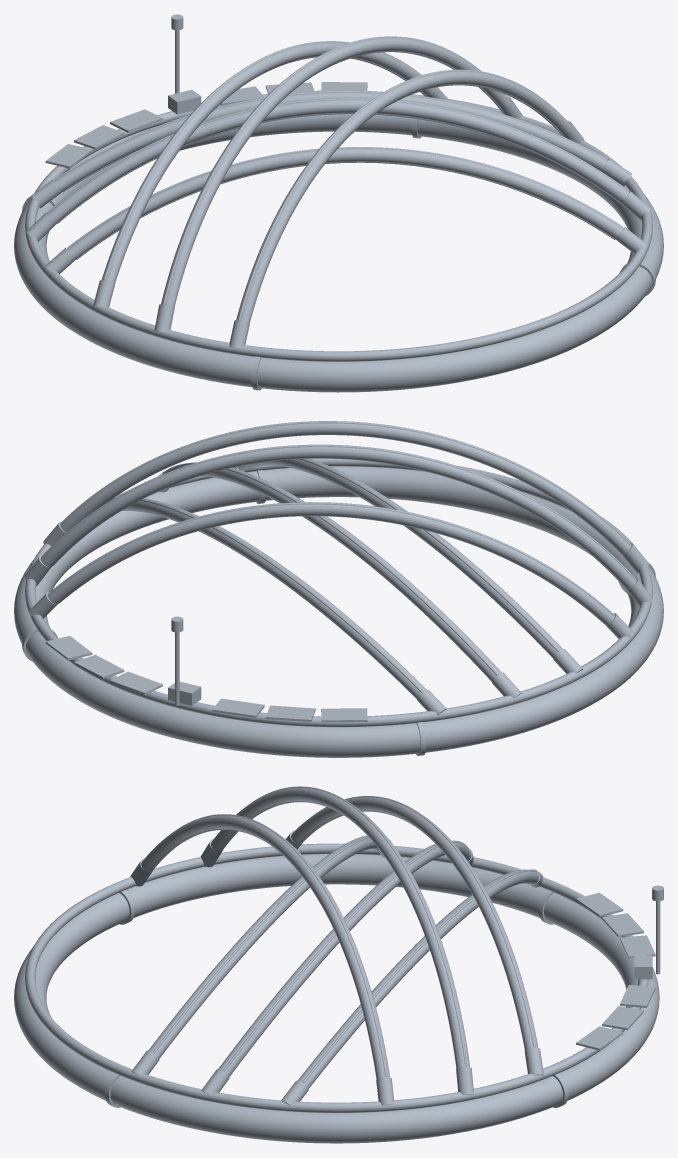
The model's file is waterline-rim-weave-r3.glb.
3 renders of one model, top to bottom at view 1: azimuth 30°, elevation 25°; view 2: azimuth 150°, elevation 25°; view 3: azimuth 270°, elevation 25°, orthographic.
Parts seen in each view (by area): view 1: Float ring, Aluminium ring, Rib 5 Air, Rib 1 Warmth, Rib 3 Water, Rib 4 Time, Rib 2 Leaf, Rib 6 Sweetness, Light strip top 3 Water, Light strip top 4 Time, Light strip top 2 Leaf, Light strip top 5 Air (+8 smaller); view 2: Float ring, Rib 3 Water, Rib 4 Time, Aluminium ring, Rib 2 Leaf, Rib 5 Air, Rib 6 Sweetness, Rib 1 Warmth, Light strip top 3 Water, Light strip top 4 Time, Light strip top 2 Leaf, Light strip top 5 Air (+9 smaller); view 3: Float ring, Aluminium ring, Rib 3 Water, Rib 4 Time, Rib 2 Leaf, Rib 5 Air, Rib 1 Warmth, Rib 6 Sweetness, Light strip top 3 Water, Light strip top 4 Time, Light strip top 1 Warmth, Light strip top 5 Air (+8 smaller).
Part boxes in pixels (<box>): Float ring: <box>14,114,663,392</box>; Aluminium ring: <box>25,90,652,361</box>; Rib 5 Air: <box>27,99,629,234</box>; Rib 1 Warmth: <box>67,148,623,259</box>; Rib 3 Water: <box>156,37,509,332</box>; Rib 4 Time: <box>231,70,570,348</box>; Rib 2 Leaf: <box>94,42,434,307</box>; Rib 6 Sweetness: <box>31,92,607,207</box>; Light strip top 3 Water: <box>163,36,480,303</box>; Light strip top 4 Time: <box>238,69,557,319</box>; Light strip top 2 Leaf: <box>103,41,421,279</box>; Light strip top 5 Air: <box>47,98,628,212</box>; Float ring: <box>14,466,663,757</box>; Rib 3 Water: <box>40,444,636,588</box>; Rib 4 Time: <box>60,421,631,553</box>; Aluminium ring: <box>25,458,652,727</box>; Rib 2 Leaf: <box>47,502,614,624</box>; Rib 5 Air: <box>163,462,519,696</box>; Rib 6 Sweetness: <box>110,498,445,714</box>; Rib 1 Warmth: <box>237,458,562,658</box>; Light strip top 3 Water: <box>41,445,636,580</box>; Light strip top 4 Time: <box>60,421,630,545</box>; Light strip top 2 Leaf: <box>48,502,614,615</box>; Light strip top 5 Air: <box>162,462,498,675</box>; Float ring: <box>14,854,659,1143</box>; Aluminium ring: <box>25,843,648,1112</box>; Rib 3 Water: <box>211,787,469,1094</box>; Rib 4 Time: <box>141,815,389,1079</box>; Rib 2 Leaf: <box>291,797,542,1075</box>; Rib 5 Air: <box>203,842,471,1094</box>; Rib 1 Warmth: <box>132,835,381,1074</box>; Rib 6 Sweetness: <box>282,869,538,1105</box>; Light strip top 3 Water: <box>253,786,467,1066</box>; Light strip top 4 Time: <box>176,814,387,1076</box>; Light strip top 1 Warmth: <box>153,836,369,1052</box>; Light strip top 5 Air: <box>222,840,468,1071</box>.
Size of the model in its own units: 7.05 by 2.34 by 7.1.
